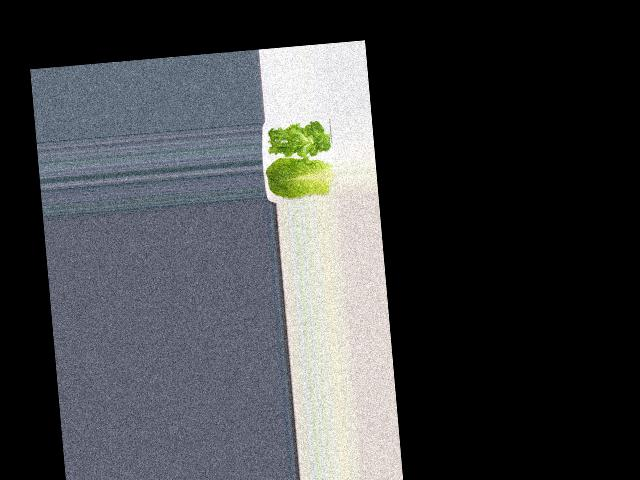lettuce: (265, 116, 329, 158)
